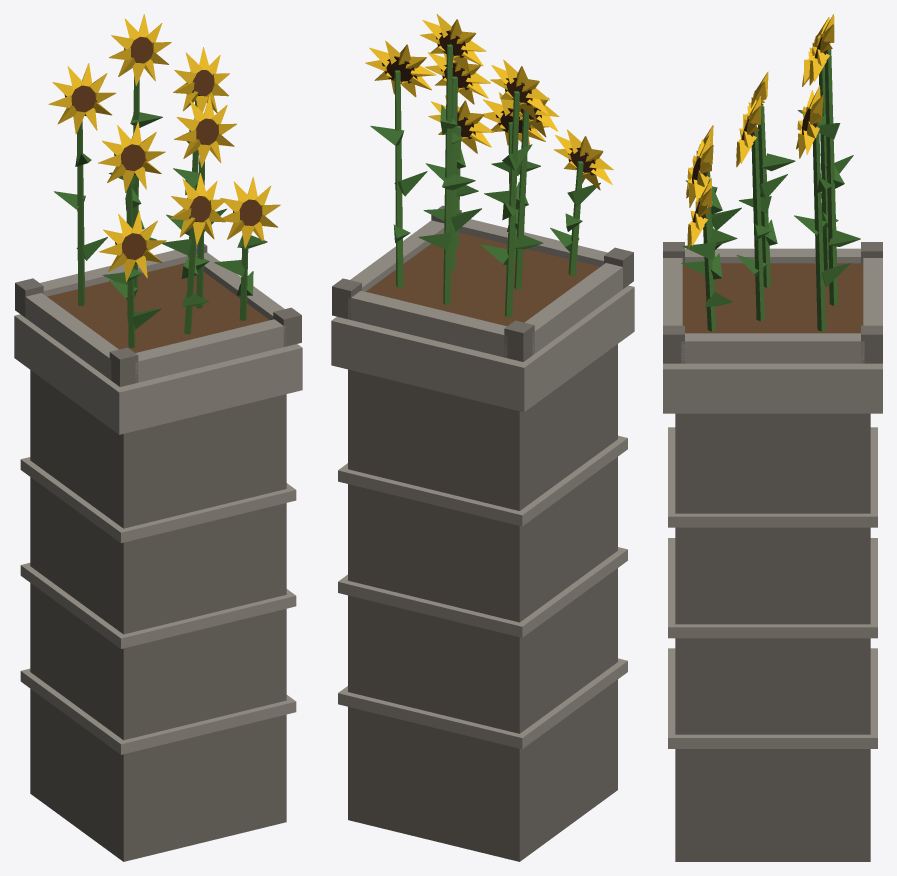
The model's file is decor_sunflowers.glb.
3 renders of one model, left to right at view 1: azimuth 30°, elevation 25°; view 2: azimuth 150°, elevation 25°; view 3: azimuth 270°, elevation 25°, orthographic. The views are drawn at different scales.
Parts seen in each view (by area): view 1: decor_sunflowers; view 2: decor_sunflowers; view 3: decor_sunflowers.
Part boxes in pixels (x1=…): decor_sunflowers: x1=14, y1=14, x2=302, y2=861; decor_sunflowers: x1=331, y1=14, x2=634, y2=861; decor_sunflowers: x1=663, y1=14, x2=882, y2=861.
Bounding box in the file's own units: 1.81 × 7.27 × 1.8.
